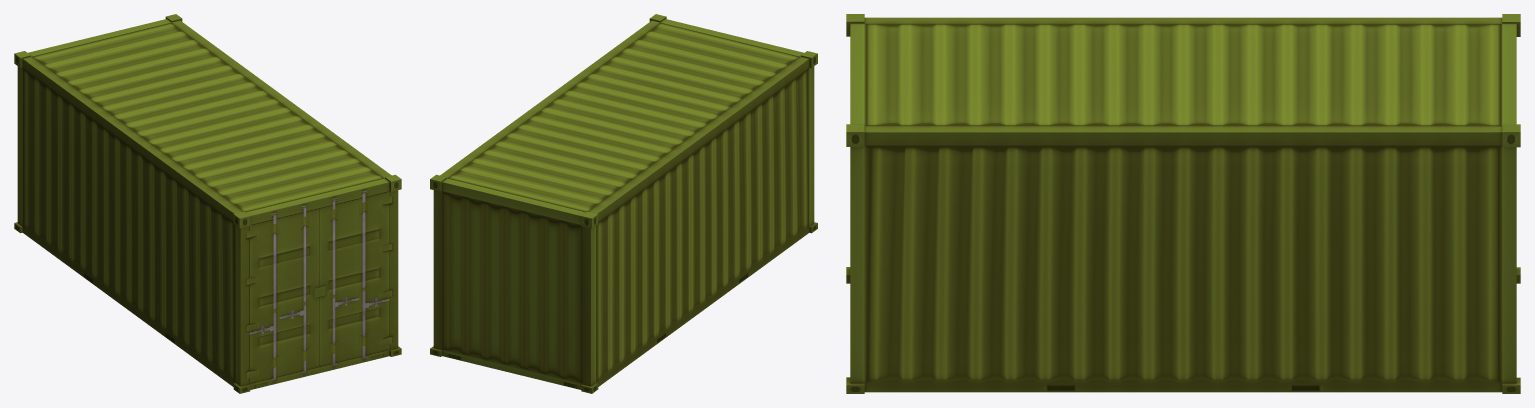
The model's file is Container01_1.FBX.
3 renders of one model, left to right at view 1: azimuth 30°, elevation 25°; view 2: azimuth 150°, elevation 25°; view 3: azimuth 270°, elevation 25°, orthographic. The views are drawn at different scales.
Visible parts, largest first — view 1: Container01_1; view 2: Container01_1; view 3: Container01_1.
Boxes of the visible parts, box(x1,y1,x2,y2) form: Container01_1: box(14, 14, 401, 393); Container01_1: box(430, 14, 817, 393); Container01_1: box(846, 14, 1520, 393).
Size of what is drawn, in the model's own units: 2.9 by 3 by 7.
